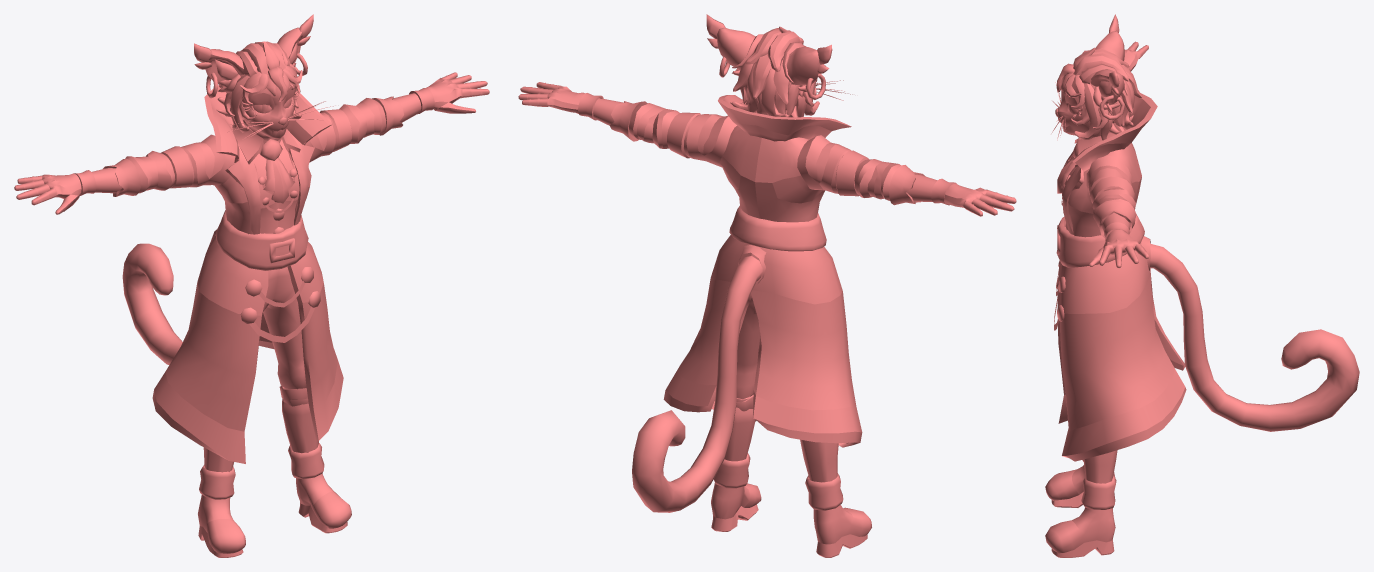
Rendered from Catastrophea_Model.fbx.
The picture shows the model from 3 angles, left to right: view 1: azimuth 30°, elevation 25°; view 2: azimuth 150°, elevation 25°; view 3: azimuth 270°, elevation 25°; orthographic projection. The views are drawn at different scales.
Parts seen in each view (by area): view 1: Catastrophea; view 2: Catastrophea; view 3: Catastrophea.
Boxes of the visible parts, bbox=[...] form: Catastrophea: bbox=[14, 14, 489, 557]; Catastrophea: bbox=[518, 14, 1016, 557]; Catastrophea: bbox=[1045, 14, 1359, 557].
Bounding box in the file's own units: 2827 × 2830 × 1665.
1 material, 1 textured.
